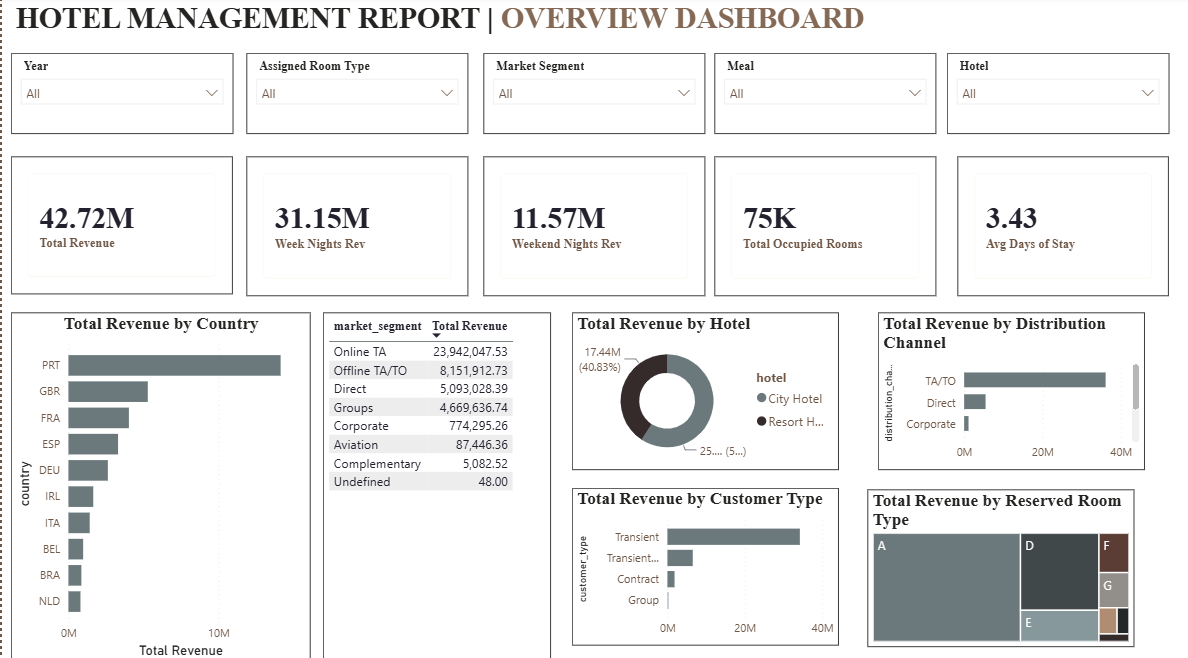

Layout of this report page (visuals, bound fields, positions):
{"tool":"powerbi","page":{"name":"Dashboard","canvas":[1280,720],"ordinal":1},"visuals":[{"type":"textbox","box":[9.7,0,1271.1,61.5],"z":0},{"type":"slicer","fields":{"Values":["DateTable.Year"]},"box":[9.7,61.5,240,87.4],"z":1000},{"type":"slicer","fields":{"Values":["hotel_bookings.hotel"]},"box":[1020.1,61.5,240,87.4],"z":2000},{"type":"slicer","fields":{"Values":["hotel_bookings.assigned_room_type"]},"box":[263.9,61.5,239.6,87.4],"z":3000},{"type":"slicer","fields":{"Values":["hotel_bookings.market_segment"]},"box":[519.8,61.5,239.6,87.4],"z":4000},{"type":"slicer","fields":{"Values":["hotel_bookings.meal"]},"box":[769.1,61.5,239.6,87.4],"z":5000},{"type":"cardVisual","fields":{"Data":["hotel_bookings.Total Revenue"]},"box":[9.7,173.3,239.6,149],"z":6000},{"type":"cardVisual","fields":{"Data":["hotel_bookings.Avg Days of Stay"]},"box":[1031.4,173.3,228.3,150.6],"z":7000},{"type":"cardVisual","fields":{"Data":["hotel_bookings.Week Nights Rev"]},"box":[263.9,173.3,239.6,150.6],"z":8000},{"type":"cardVisual","fields":{"Data":["hotel_bookings.Total Occupied Rooms"]},"box":[769.1,173.3,239.6,150.6],"z":9000},{"type":"cardVisual","fields":{"Data":["hotel_bookings.Weekend Nights Rev"]},"box":[519.8,173.3,239.6,150.6],"z":10000},{"type":"clusteredBarChart","title":"Total Revenue by Country","fields":{"Category":["hotel_bookings.country"],"Y":["hotel_bookings.Total Revenue"]},"box":[9.4,342,323.2,378],"z":11000},{"type":"tableEx","fields":{"Values":["hotel_bookings.market_segment","hotel_bookings.Total Revenue"]},"box":[346.5,341.7,246.1,378.9],"z":12000},{"type":"donutChart","title":"Total Revenue by Hotel","fields":{"Y":["hotel_bookings.Total Revenue"],"Category":["hotel_bookings.hotel"]},"box":[615.3,341.7,288.2,170],"z":12001},{"type":"clusteredBarChart","title":"Total Revenue by Distribution Channel","fields":{"Category":["hotel_bookings.distribution_channel"],"Y":["hotel_bookings.Total Revenue"]},"box":[945.6,341.7,288.2,170],"z":12002},{"type":"clusteredBarChart","title":"Total Revenue by Customer Type","fields":{"Y":["hotel_bookings.Total Revenue"],"Category":["hotel_bookings.customer_type"]},"box":[615.3,531.1,288.2,170],"z":12003},{"type":"treemap","title":"Total Revenue by Reserved Room Type","fields":{"Group":["hotel_bookings.reserved_room_type"],"Values":["hotel_bookings.Total Revenue"]},"box":[934.3,532.7,288.2,170],"z":12004}]}

Visuals, with their boxes in screenshot pixels (x1, y1, x2, y2), scaled from the page's 1280x720 canvas onto the 1188x658 screenshot:
textbox: 9 0 1187 56
slicer - DateTable.Year: 9 56 232 136
slicer - hotel_bookings.hotel: 947 56 1170 136
slicer - hotel_bookings.assigned_room_type: 245 56 467 136
slicer - hotel_bookings.market_segment: 482 56 705 136
slicer - hotel_bookings.meal: 714 56 936 136
cardVisual - hotel_bookings.Total Revenue: 9 158 231 295
cardVisual - hotel_bookings.Avg Days of Stay: 957 158 1169 296
cardVisual - hotel_bookings.Week Nights Rev: 245 158 467 296
cardVisual - hotel_bookings.Total Occupied Rooms: 714 158 936 296
cardVisual - hotel_bookings.Weekend Nights Rev: 482 158 705 296
"Total Revenue by Country" clusteredBarChart: 9 313 309 657
tableEx - hotel_bookings.market_segment x hotel_bookings.Total Revenue: 322 312 550 657
"Total Revenue by Hotel" donutChart: 571 312 839 468
"Total Revenue by Distribution Channel" clusteredBarChart: 878 312 1145 468
"Total Revenue by Customer Type" clusteredBarChart: 571 485 839 641
"Total Revenue by Reserved Room Type" treemap: 867 487 1135 642
